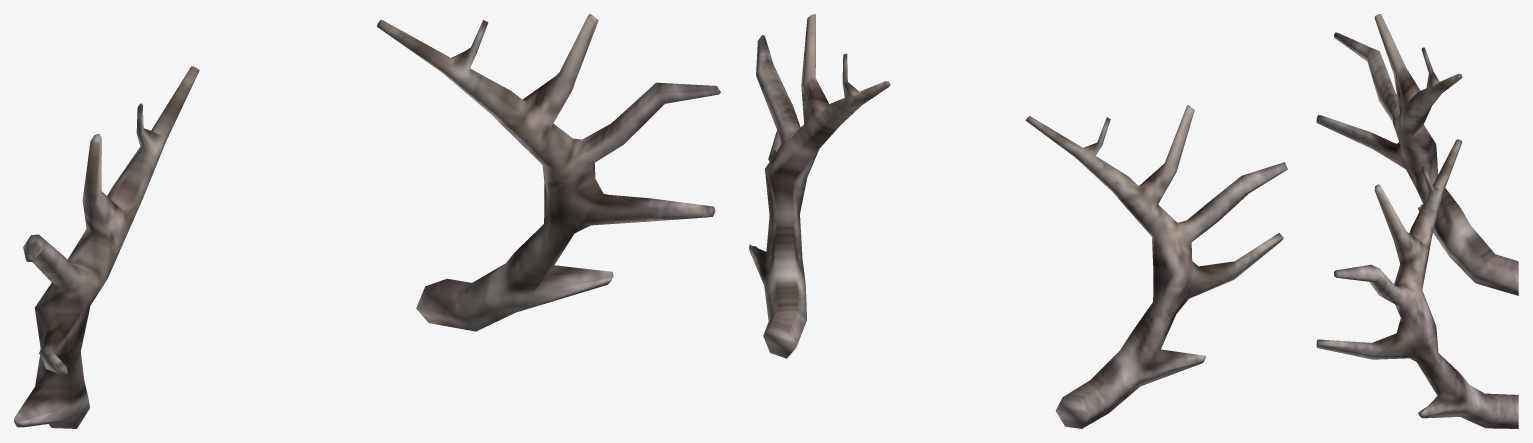
The model's file is antlers_3.FBX.
3 views of the same model, side by side, from view 1: azimuth 30°, elevation 25°; view 2: azimuth 150°, elevation 25°; view 3: azimuth 270°, elevation 25° (orthographic). The views are drawn at different scales.
Parts seen in each view (by area): view 1: antlers_3; view 2: antlers_3; view 3: antlers_3.
Part boxes in pixels (x1,y1,x2,y2): antlers_3: (14,14,720,428); antlers_3: (749,14,1287,428); antlers_3: (1316,14,1518,428).
Size of the model in its own units: 60.27 by 30.32 by 21.32.
